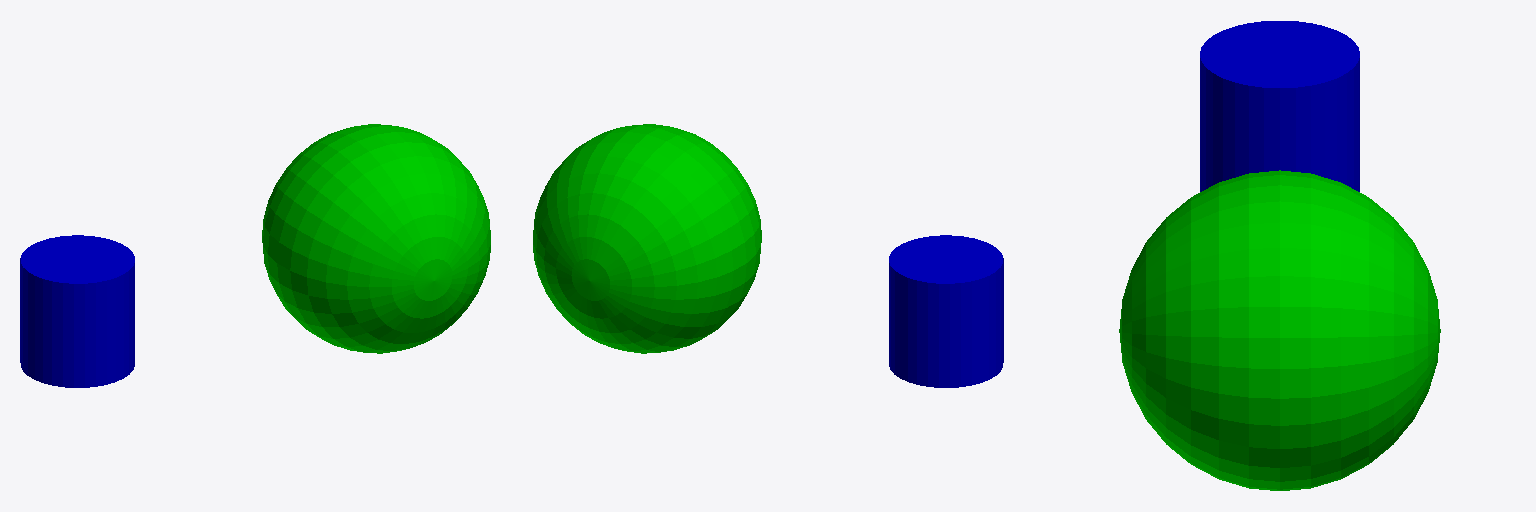
URDF robot description (A_vs_B):
<?xml version="1.0"?>
<robot name="A_vs_B">
  <material name="blue">
    <color rgba="0 0 0.8 .5"/>
  </material>
  <material name="green">
    <color rgba="0 0.8 0 .5"/>
  </material>
  <link name="A">
    <visual>
      <geometry>
        <cylinder radius=".5" length="1" />
      </geometry>
      <origin rpy="0.0 0 0" xyz="-1.5 0 0"/>
      <material name="blue"/>
    </visual>
  </link>
  <link name="B">
    <visual>
      <geometry>
        <mesh filename="package://exotica_examples/tests/resources/uvsphere.obj"/>
      </geometry>
      <origin rpy="0 0 0" xyz="1.5 0 0"/>
      <material name="green"/>
    </visual>
  </link>
  <joint name="joint1" type="revolute">
    <axis xyz="0 0 1"/>
    <limit effort="1" lower="-1" upper="1" velocity="1"/>
    <origin rpy="0 0 0" xyz="0 0 0"/>
    <parent link="A"/>
    <child link="B"/>
  </joint>
</robot>

--- Render facts (derived) ---
3 views of the same robot in one strip: view 1: azimuth 30°, elevation 25°; view 2: azimuth 150°, elevation 25°; view 3: azimuth 270°, elevation 25° (orthographic).
Model A_vs_B with 2 links and 1 joints (1 revolute), rooted at A, posed every joint at zero.
Links seen in each view (by area): view 1: B, A; view 2: B, A; view 3: B, A.
Boxes of the visible links, <box> form: B: <box>262,124,490,353</box>; A: <box>20,235,134,387</box>; B: <box>533,124,761,353</box>; A: <box>889,235,1003,387</box>; B: <box>1119,170,1440,490</box>; A: <box>1200,21,1359,191</box>.
Bounding box of the posed robot: 4.5 × 2 × 2 m (x, y, z).
1 mesh visuals loaded from 1 distinct referenced files (1 OBJ).